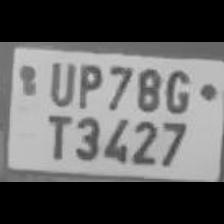2: (127, 116, 156, 164)
3: (70, 111, 100, 161)
4: (102, 113, 131, 163)
7: (155, 116, 186, 166), (104, 62, 132, 110)
8: (130, 64, 162, 112)
G: (161, 64, 193, 114)
P: (72, 60, 102, 110)
T: (40, 109, 70, 161)
U: (43, 56, 75, 106)
